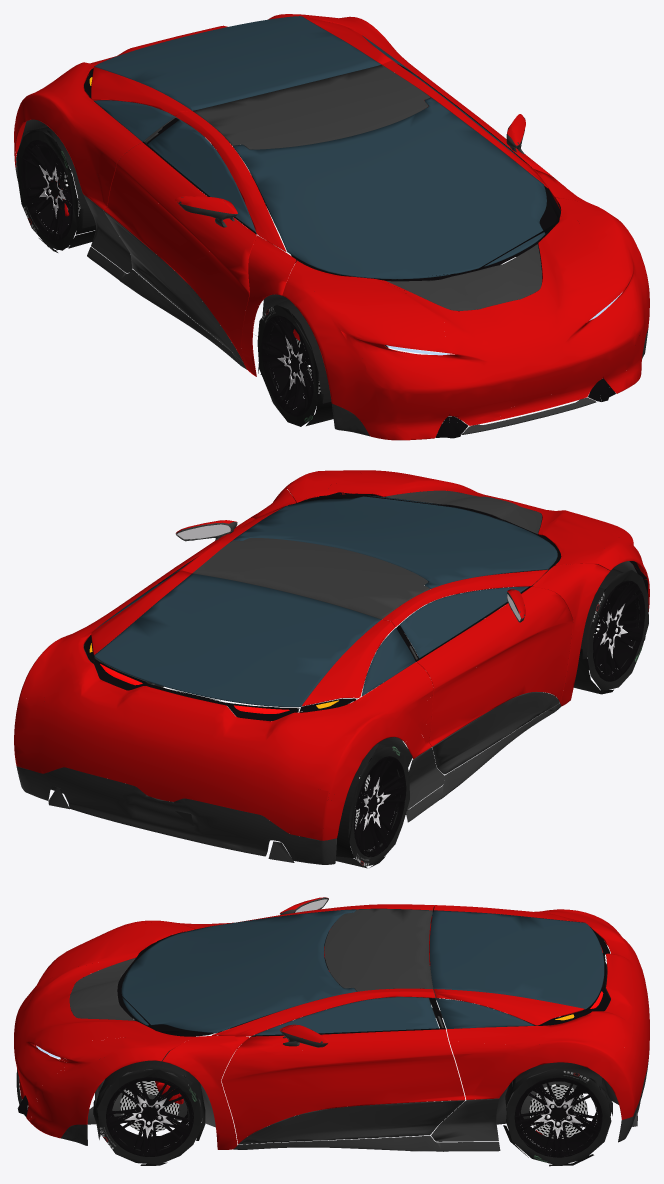
Rendered from concept-car-lod.glb.
3 renders of one model, top to bottom at view 1: azimuth 30°, elevation 25°; view 2: azimuth 150°, elevation 25°; view 3: azimuth 270°, elevation 25°, orthographic. The views are drawn at different scales.
Visible parts, largest first — view 1: BodyHood, BodyWindshield, BodyRearwindow, BodyDoorRColor1, BodyRearPanelsColor1, BodyRoofPanel, BodyPillars, BodyPanelsColor2, BodyHoodTopgrill, BodyDoorRWindow, WheelFrontRRim, WheelRearRRim (+8 smaller); view 2: BodyRearPanelsColor1, BodyRearwindow, BodyWindshield, BodyPanelsColor2, BodyDoorRColor1, BodyRoofPanel, BodyHood, BodyPillars, WheelFrontRRim, BodyDoorRColor2, WheelRearRRim, BodyDoorRWindow (+7 smaller); view 3: BodyWindshield, BodyRearPanelsColor1, BodyDoorLColor1, BodyHood, BodyRearwindow, BodyRoofPanel, BodyPillars, BodyDoorLColor2, BodyPanelsColor2, WheelFrontLRim, WheelRearLRim, BodyDoorLWindow (+10 smaller).
Boxes of the visible parts, <box> form: BodyHood: <box>282,197,649,440</box>; BodyWindshield: <box>233,97,546,279</box>; BodyRearwindow: <box>94,16,381,110</box>; BodyDoorRColor1: <box>104,142,256,361</box>; BodyRearPanelsColor1: <box>14,14,430,209</box>; BodyRoofPanel: <box>193,65,430,149</box>; BodyPillars: <box>175,60,595,376</box>; BodyPanelsColor2: <box>15,110,648,436</box>; BodyHoodTopgrill: <box>386,244,541,310</box>; BodyDoorRWindow: <box>147,120,256,233</box>; WheelFrontRRim: <box>261,315,331,416</box>; WheelRearRRim: <box>21,140,78,240</box>; BodyRearPanelsColor1: <box>14,570,433,840</box>; BodyRearwindow: <box>94,573,380,706</box>; BodyWindshield: <box>233,495,557,588</box>; BodyPanelsColor2: <box>16,636,645,864</box>; BodyDoorRColor1: <box>416,586,572,746</box>; BodyRoofPanel: <box>192,538,430,619</box>; BodyHood: <box>283,470,649,611</box>; BodyPillars: <box>178,488,610,706</box>; WheelFrontRRim: <box>586,580,645,681</box>; BodyDoorRColor2: <box>432,691,559,774</box>; WheelRearRRim: <box>349,756,406,857</box>; BodyDoorRWindow: <box>399,586,528,658</box>; BodyWindshield: <box>121,909,356,1033</box>; BodyRearPanelsColor1: <box>434,905,649,1119</box>; BodyDoorLColor1: <box>221,1029,465,1144</box>; BodyHood: <box>14,920,195,1138</box>; BodyRearwindow: <box>429,910,604,1009</box>; BodyRoofPanel: <box>324,908,432,991</box>; BodyPillars: <box>162,904,435,1149</box>; BodyDoorLColor2: <box>239,1100,464,1144</box>; BodyPanelsColor2: <box>16,1008,649,1151</box>; WheelFrontLRim: <box>106,1075,193,1156</box>; WheelRearLRim: <box>514,1077,602,1157</box>; BodyDoorLWindow: <box>254,997,438,1035</box>.
Bounding box in the file's own units: 2.34 × 1.17 × 4.36.
Materials: 15 (4 with a texture image).
